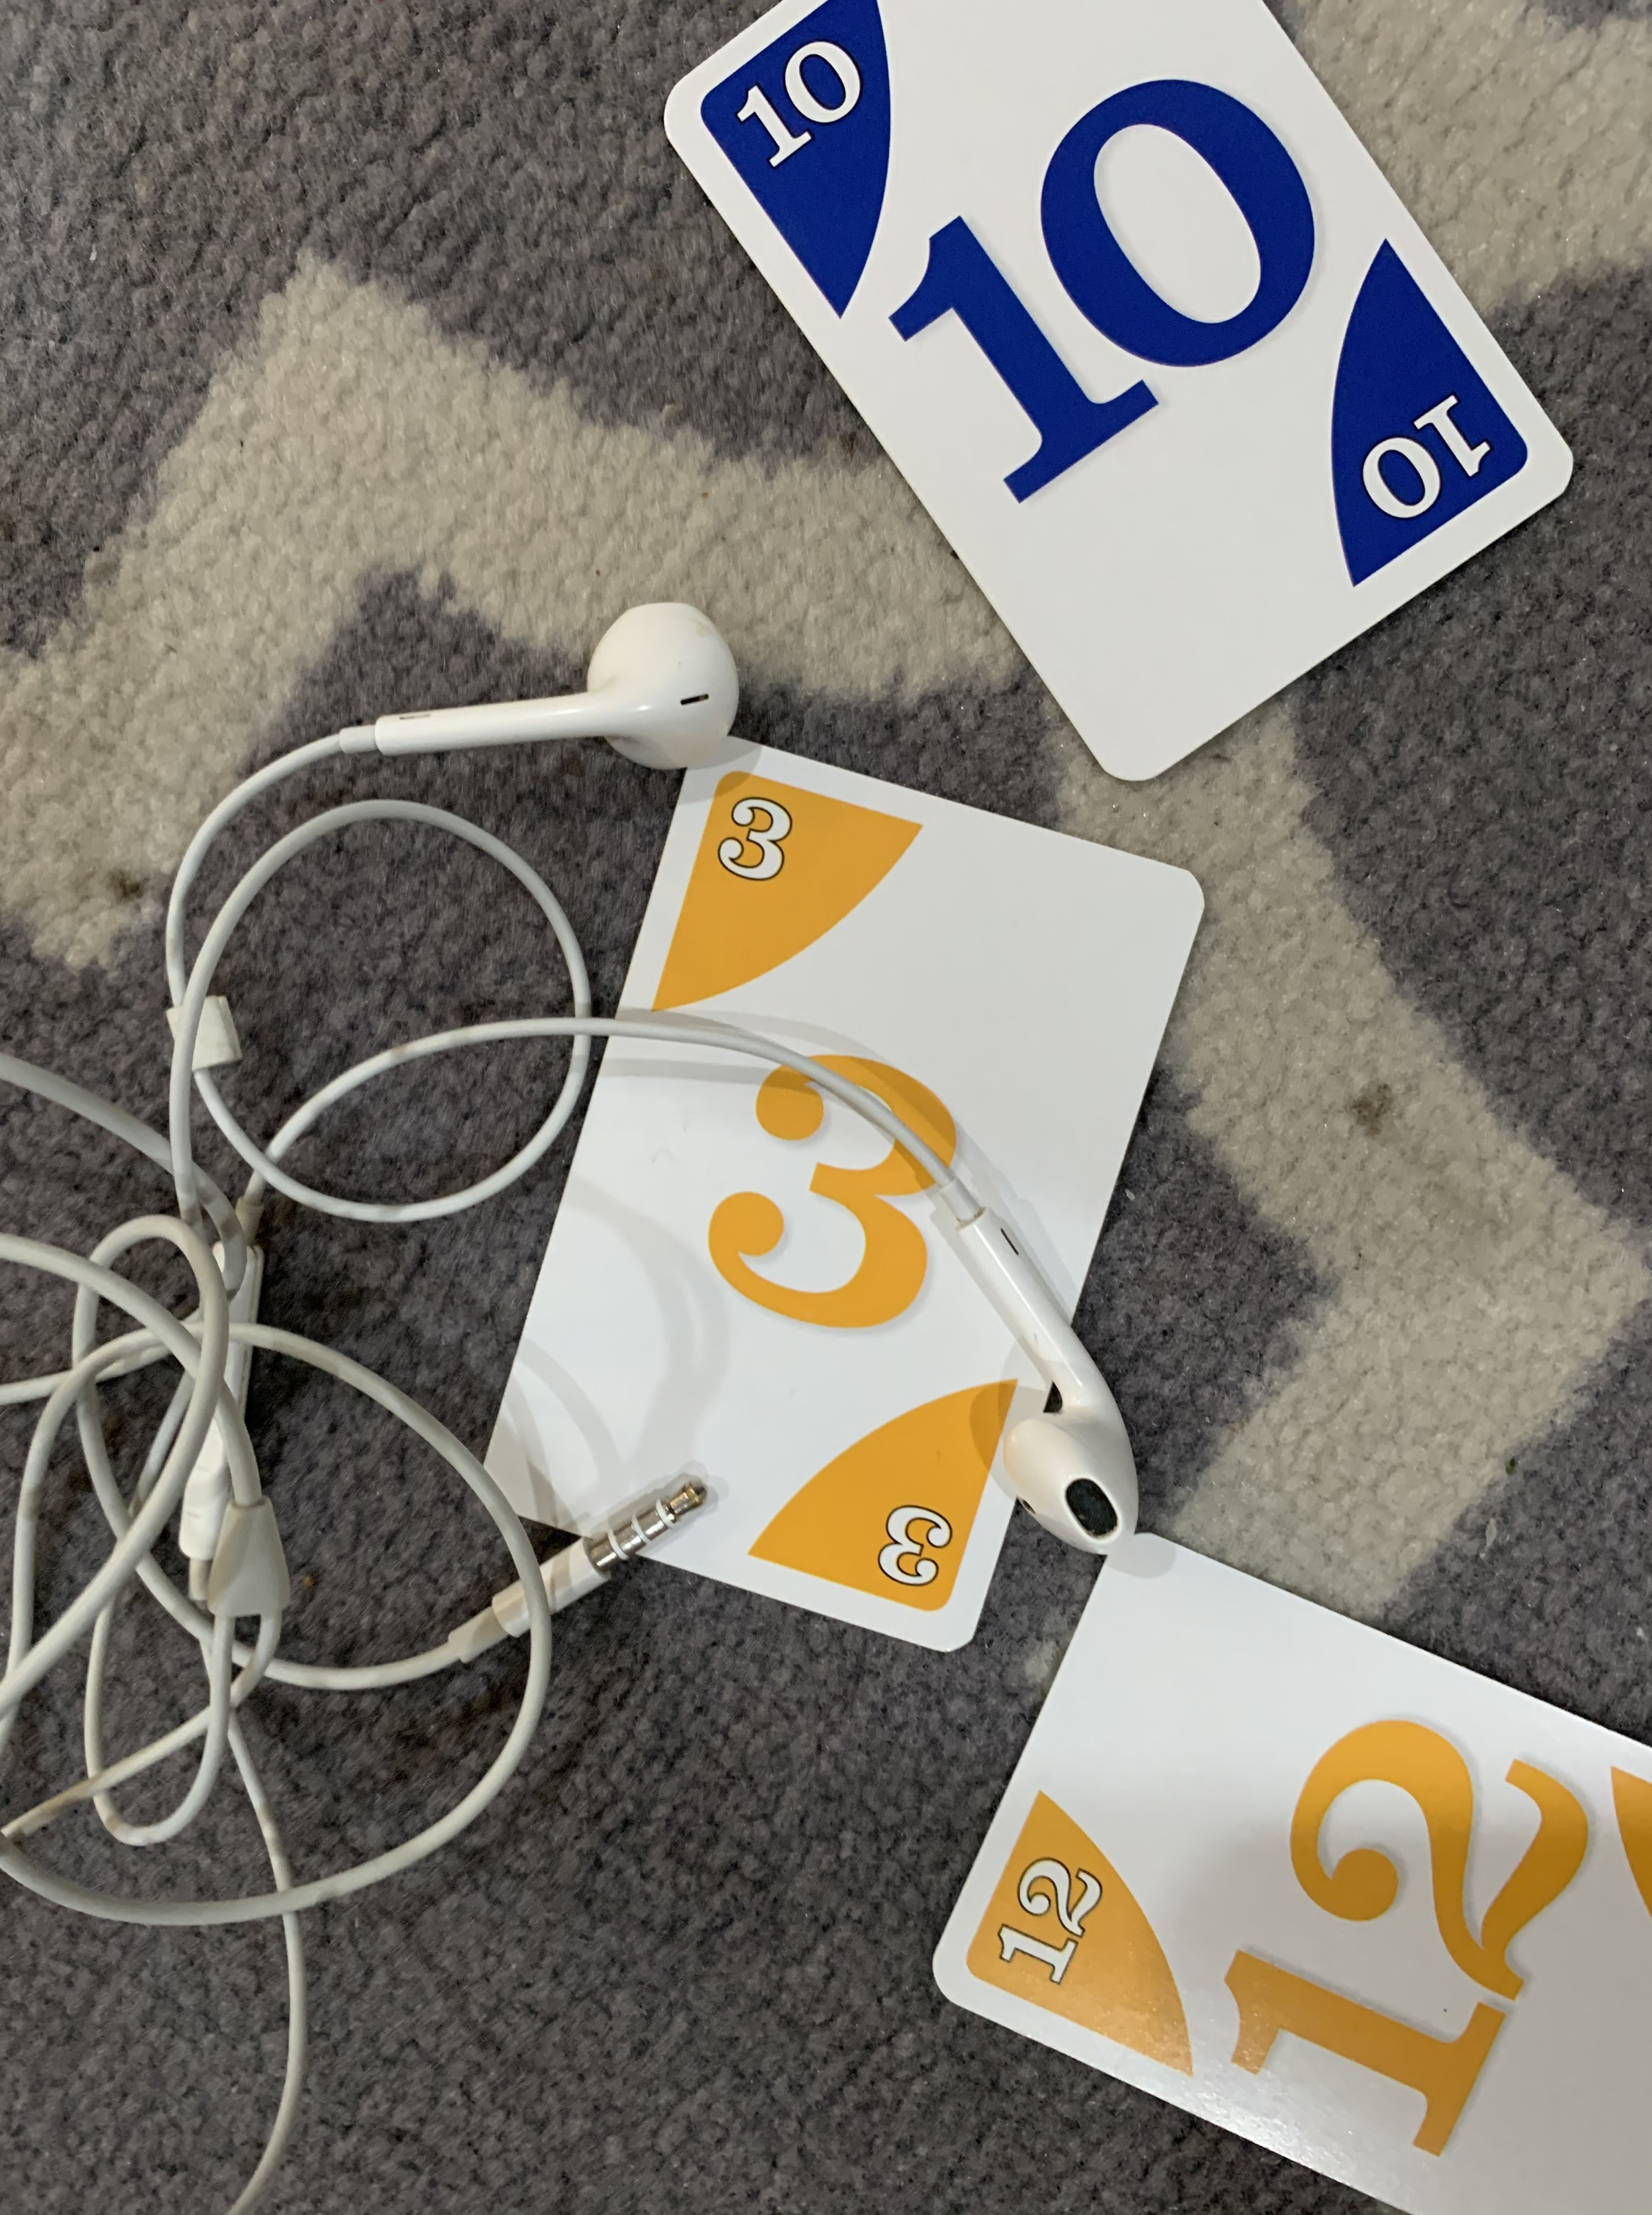ten: (640, 2, 1619, 809)
three: (449, 708, 1225, 1689)
twelve: (913, 1521, 1652, 2184)
